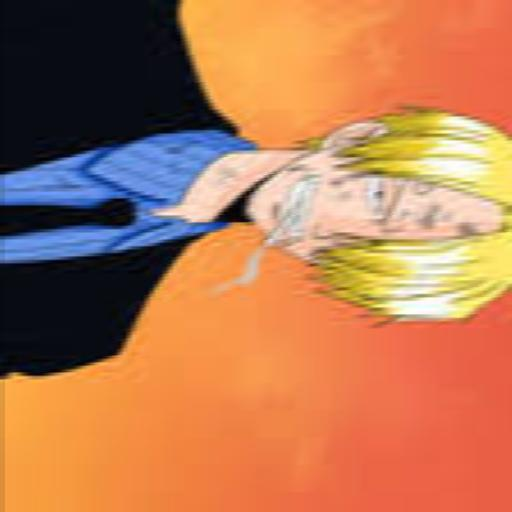sanji: (0, 10, 509, 402)
